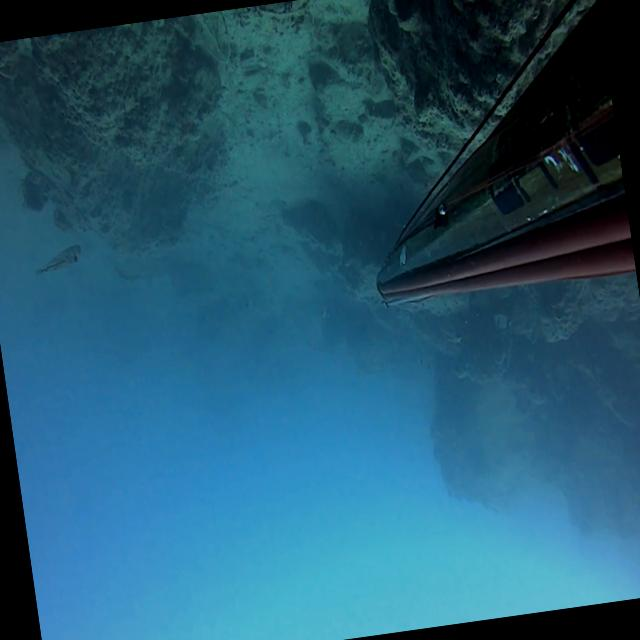Balon Baligi: (31, 245, 84, 278), (444, 328, 462, 345)
